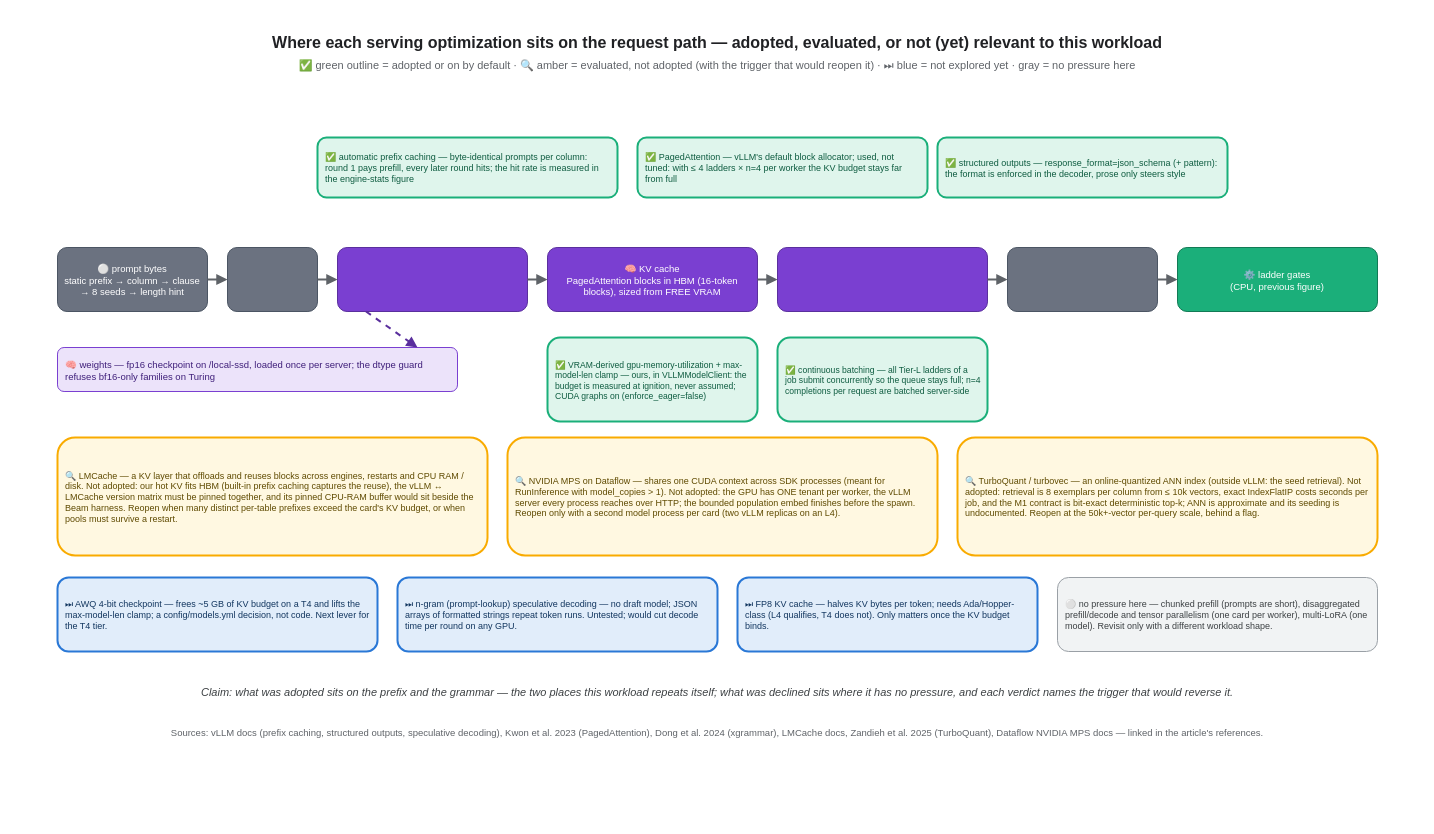
This 1434x834 diagram has some shape labels left out. Here are the shapes that lost their labels. From the top down, the centre of each, then its label:
point (272, 279): ⚙️ tokenizer
point (432, 279): 🧠 prefill block-hash lookup: compute only the un-cached suffix
point (882, 279): 🧠 decode loop continuous batching · grammar mask (xgrammar) · CUDA graphs
point (1082, 279): ⚪ detokenize → JSON array of 32 strings
